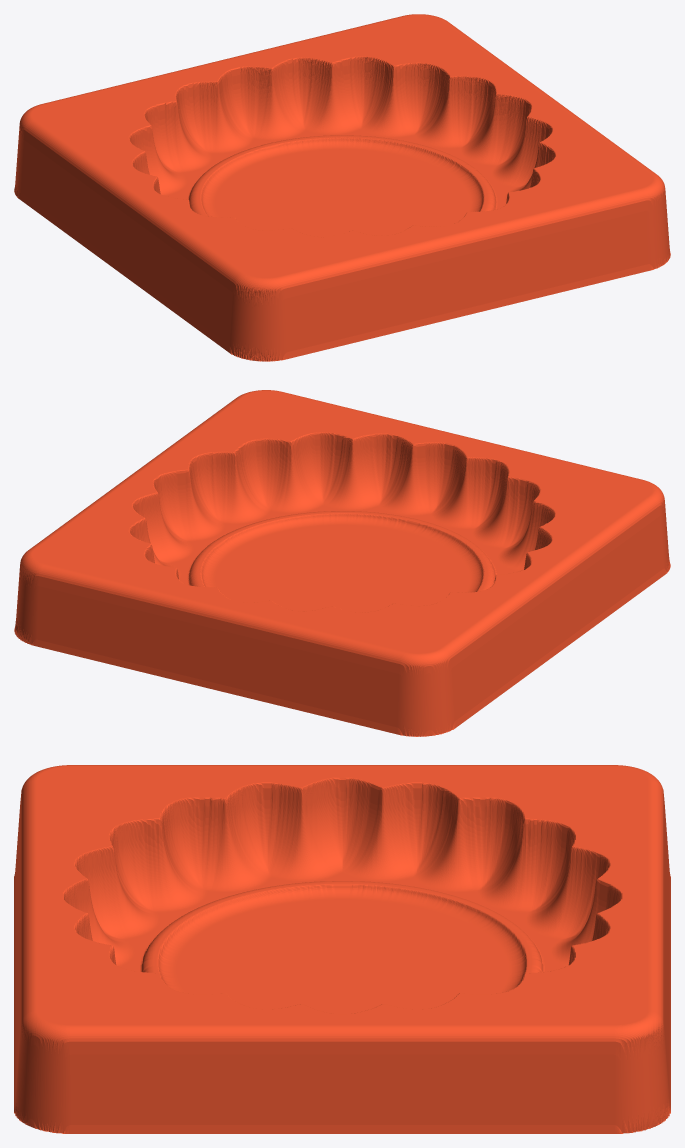
Rendered from mold.glb.
3 renders of one model, top to bottom at view 1: azimuth 30°, elevation 25°; view 2: azimuth 150°, elevation 25°; view 3: azimuth 270°, elevation 25°, orthographic. The views are drawn at different scales.
Visible parts, largest first — view 1: geometry_0; view 2: geometry_0; view 3: geometry_0.
Part boxes in pixels (bbox=[...]): geometry_0: bbox=[14, 14, 670, 361]; geometry_0: bbox=[14, 390, 670, 736]; geometry_0: bbox=[14, 765, 670, 1133].
Size of the model in its own units: 0.105 by 0.0175 by 0.105.
